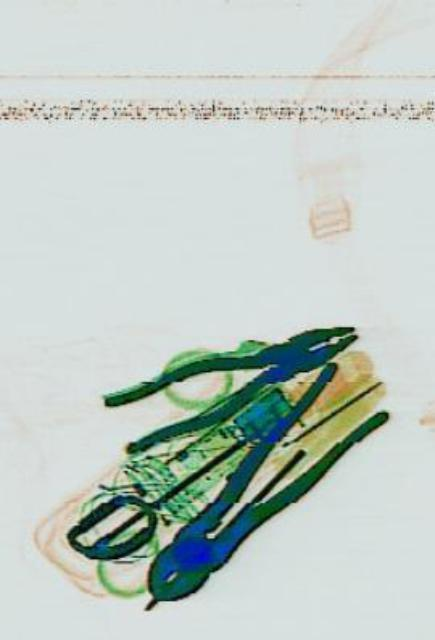Pliers: (130, 338, 387, 634), (98, 288, 361, 464)
